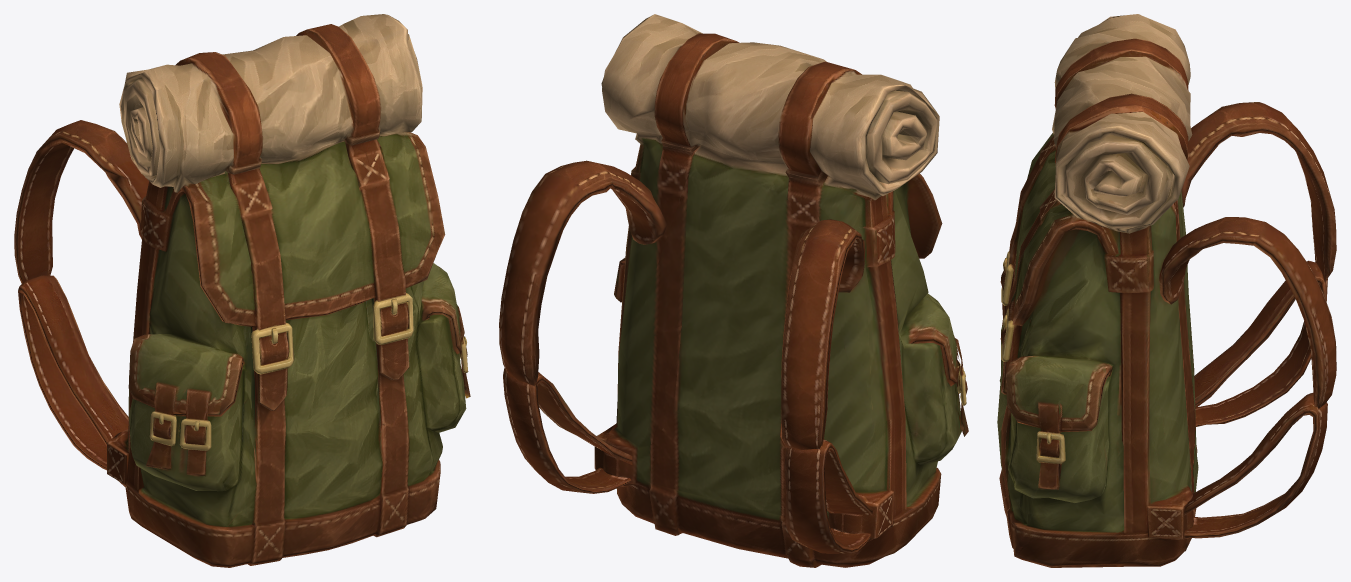
Rendered from rl-large-pack.glb.
3 views of the same model, side by side, from view 1: azimuth 30°, elevation 25°; view 2: azimuth 150°, elevation 25°; view 3: azimuth 270°, elevation 25° (orthographic). The views are drawn at different scales.
Parts seen in each view (by area): view 1: Large Pack; view 2: Large Pack; view 3: Large Pack.
Part boxes in pixels (x1,y1,x2,y2): Large Pack: (14,14,470,567); Large Pack: (499,14,968,567); Large Pack: (997,14,1336,567).
Bounding box in the file's own units: 0.6953 × 0.9536 × 0.6465.
1 material, 1 textured.
